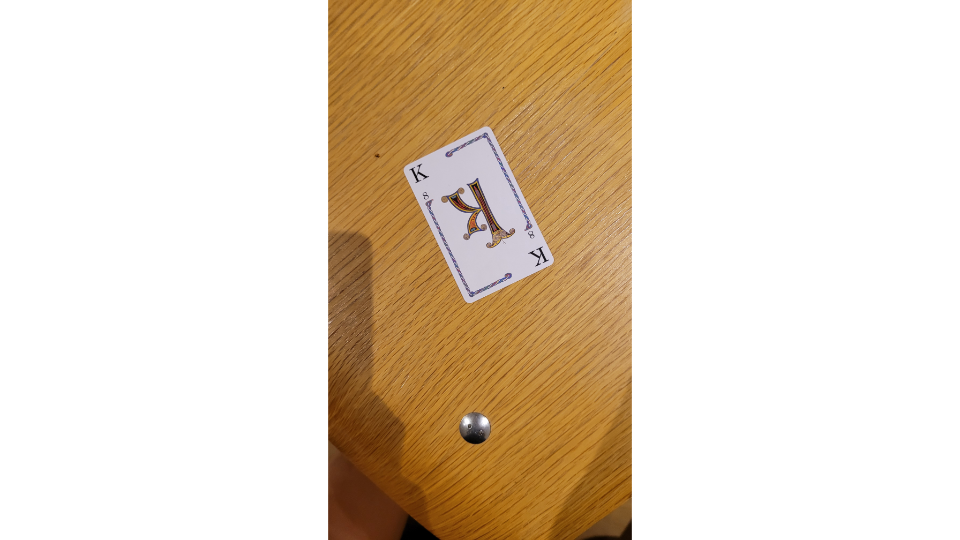K: (400, 123, 558, 304)
